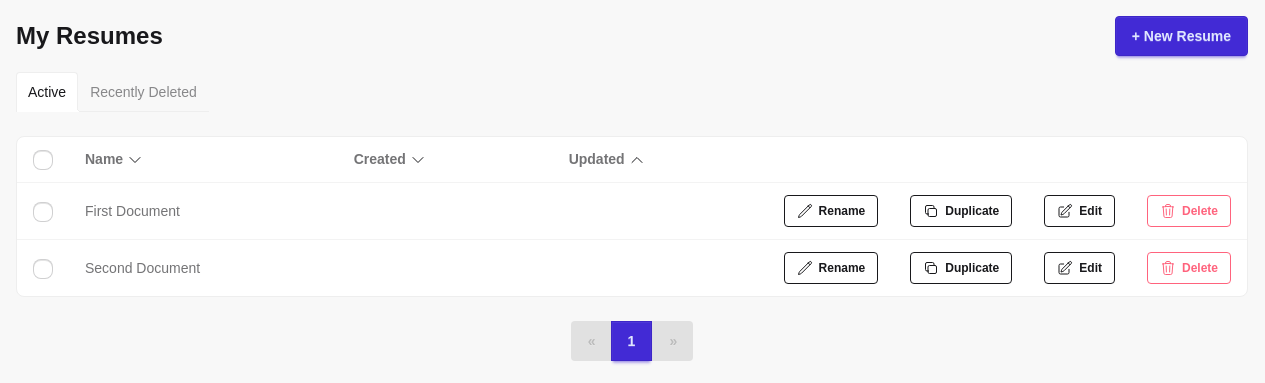
Test: SavedDocumentsPageContent › loads and renders the active documents, and switches to the deleted tab
The image size is (1265, 383).
Check: the text "First Document" is shown, box [69,183,338,240]
Check: the text "Second Document" is shown, box [69,240,338,296]
Click the tab "Recently Deleted": (143, 92) [78,72,209,112]
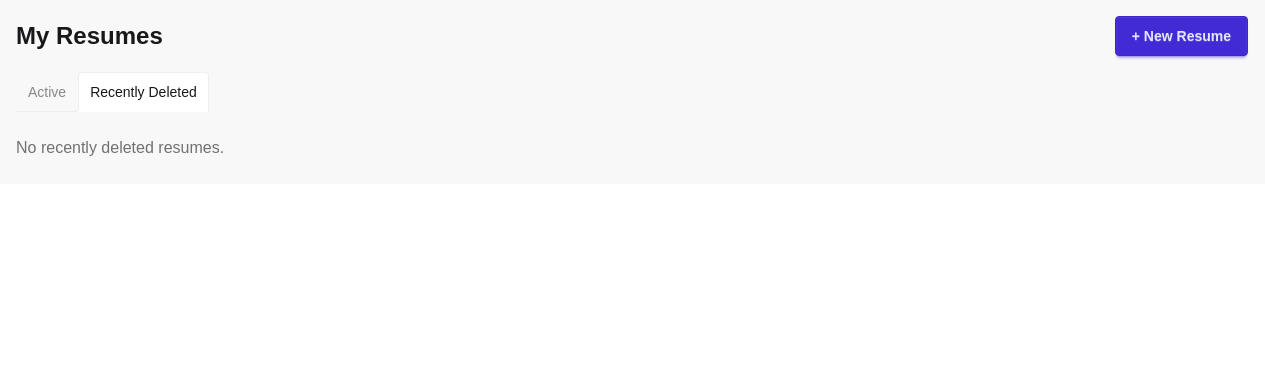
Check: the text "First Document" is gone
